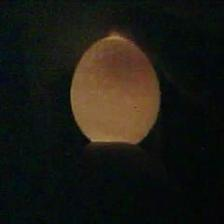infertile: (70, 37, 162, 150)
